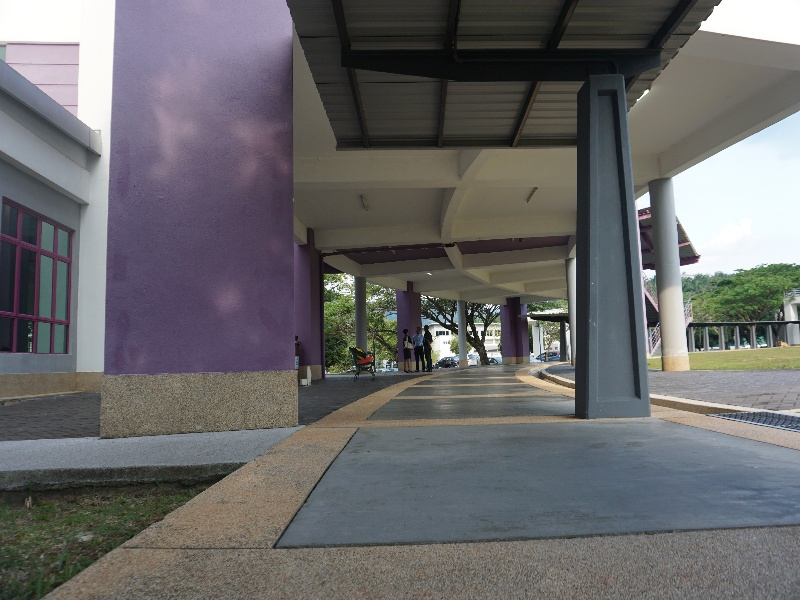Block D Pillar 1: (7, 4, 800, 499)
pillar: (101, 2, 302, 434), (581, 75, 653, 424), (649, 175, 694, 378), (288, 228, 329, 383), (493, 290, 535, 364), (352, 264, 378, 372), (453, 295, 469, 370)
